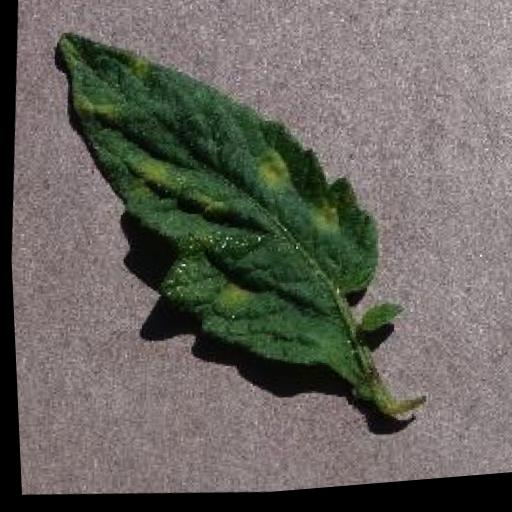Leaf Mold: (31, 15, 396, 393)
